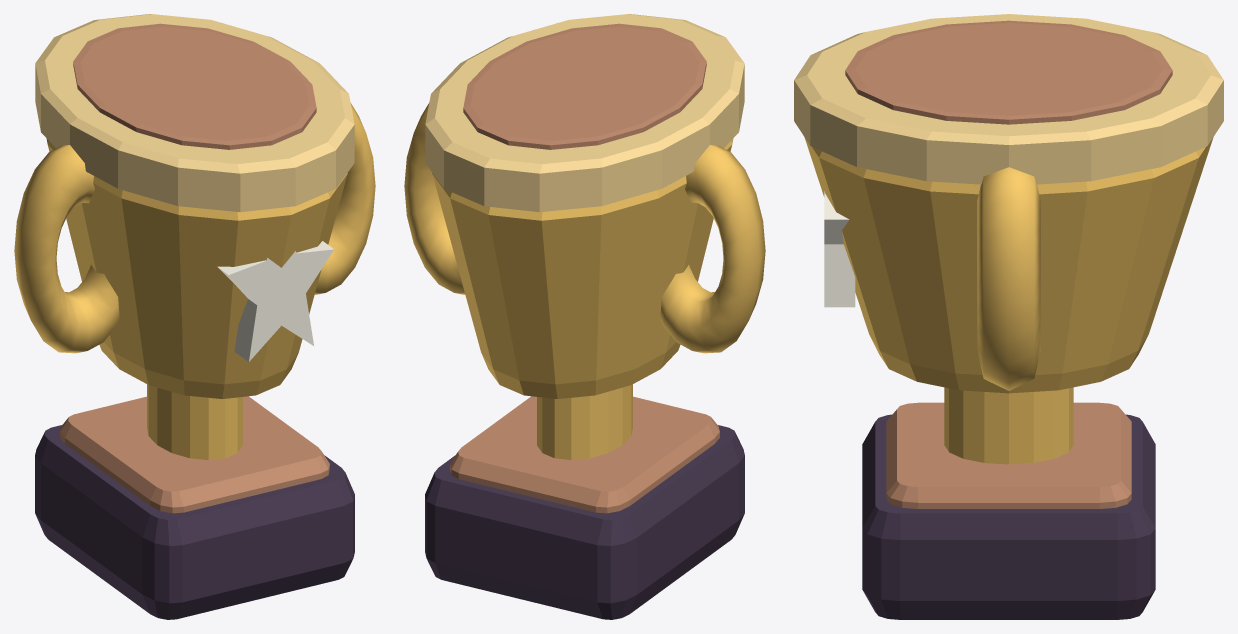
The model's file is trophy_gold.glb.
3 views of the same model, side by side, from view 1: azimuth 30°, elevation 25°; view 2: azimuth 150°, elevation 25°; view 3: azimuth 270°, elevation 25° (orthographic). The views are drawn at different scales.
Visible parts, largest first — view 1: model; view 2: model; view 3: model.
Boxes of the visible parts, left/top/right/bottom form: model: left=14, top=14, right=375, bottom=619; model: left=404, top=14, right=765, bottom=619; model: left=794, top=14, right=1223, bottom=619.
Bounding box in the file's own units: 0.7 × 0.9 × 0.7.
